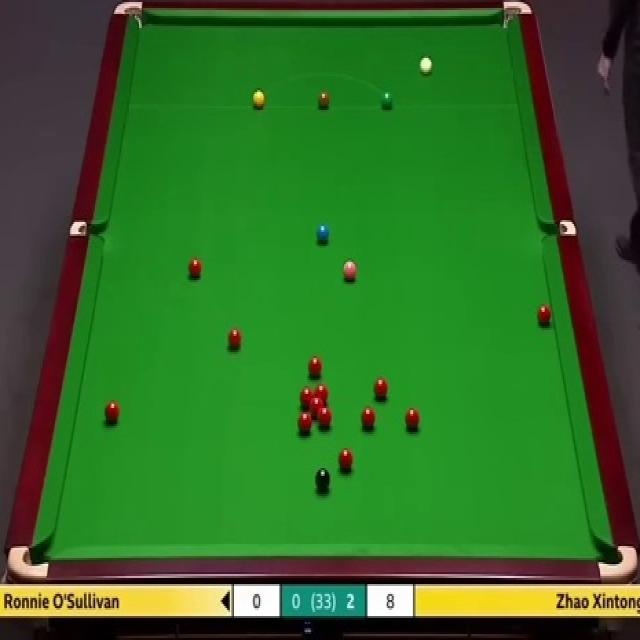pocket: (598, 542, 640, 583), (6, 549, 49, 583), (500, 0, 532, 31), (113, 0, 142, 29), (544, 218, 576, 238), (72, 218, 105, 236)
